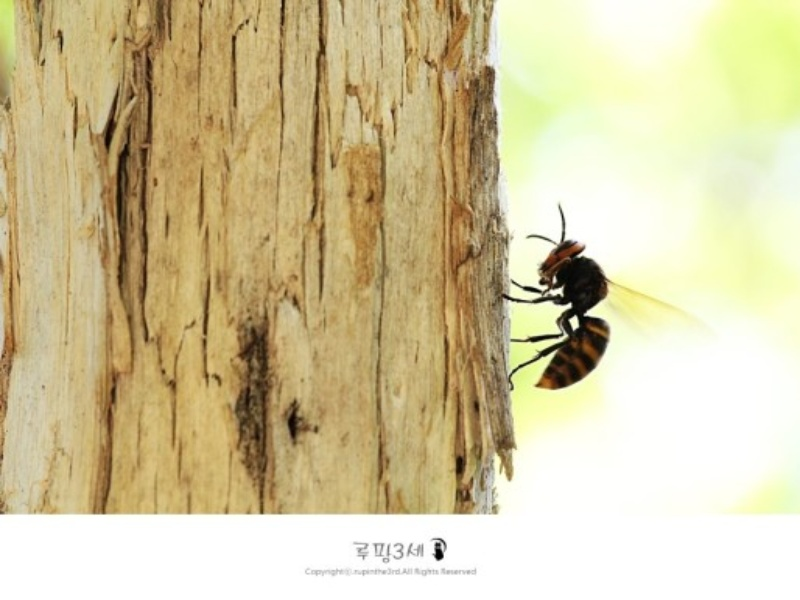asian_giant_hornet: (501, 195, 629, 394)
